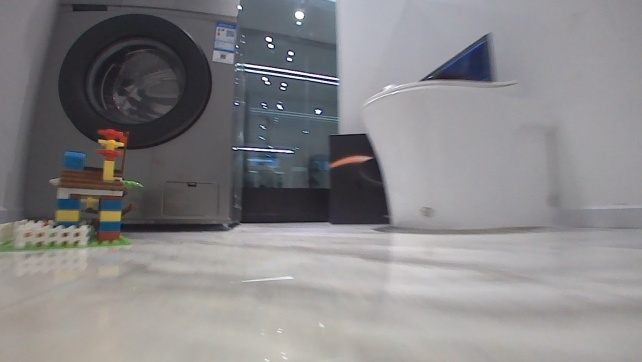plastic_toy: (0, 126, 144, 255)
toilet: (359, 78, 557, 231)
washing_machine: (24, 0, 245, 231)
